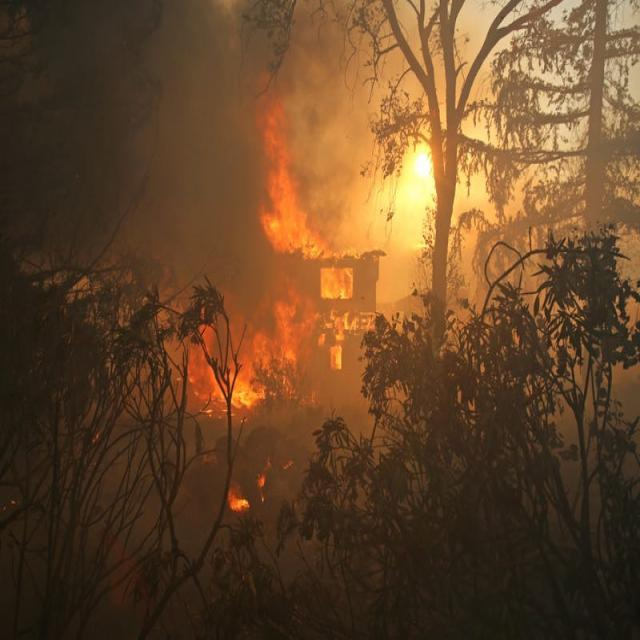Smoke: (28, 0, 286, 322), (236, 0, 392, 257)
